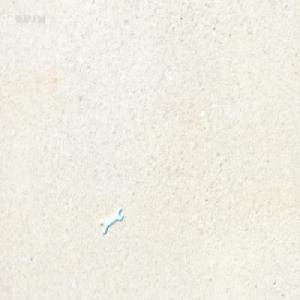Wrench: (100, 205, 123, 233)
